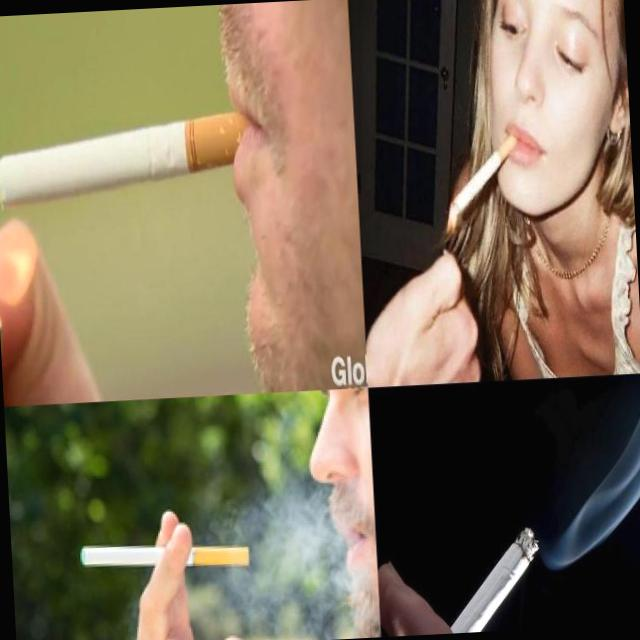cigarette: (0, 107, 269, 210), (376, 525, 545, 636), (80, 536, 250, 574), (451, 134, 520, 212)
